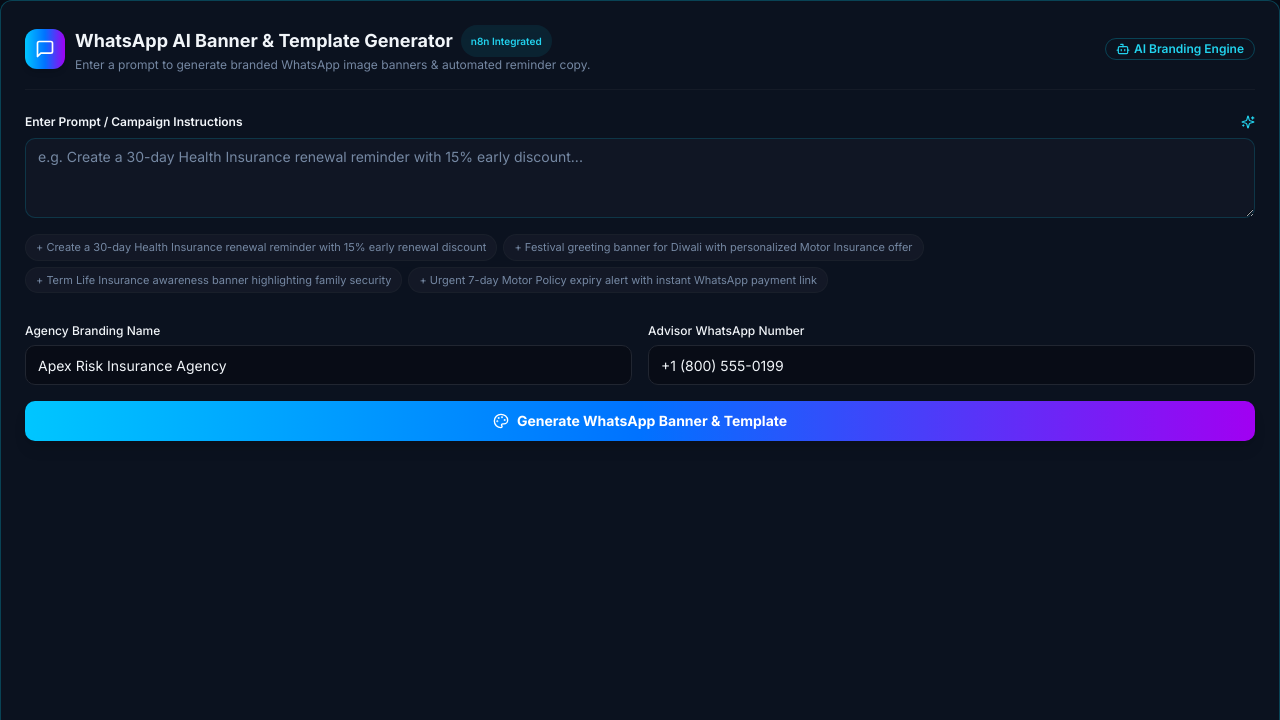
Test: WhatsApp Banner Generator Component Tests › updates prompt input and generates new WhatsApp banner
Replace the text in the text box with placeholder "Create a 30-day Health Insurance renewal reminder" with "Create a Motor Insurance expiry alert" at (640, 178), box [25, 138, 1255, 218]
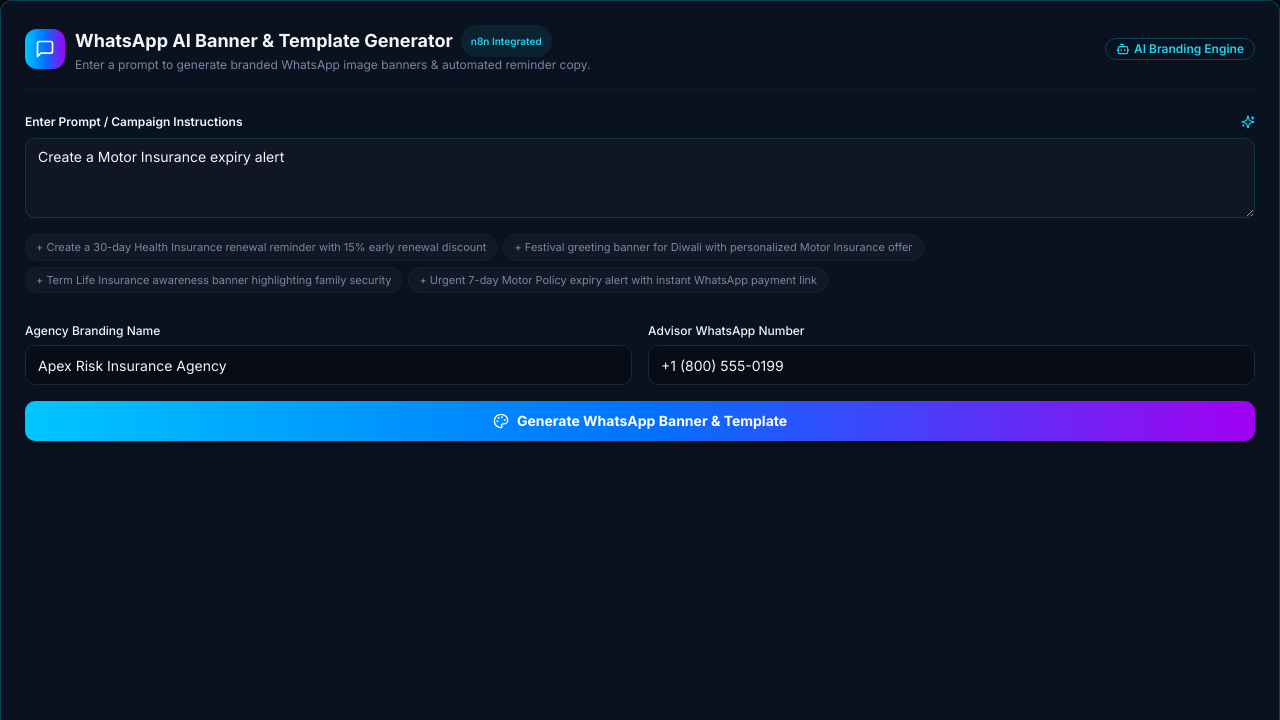
Click the button "Generate WhatsApp Banner & Template" at (640, 421), box [25, 401, 1255, 441]
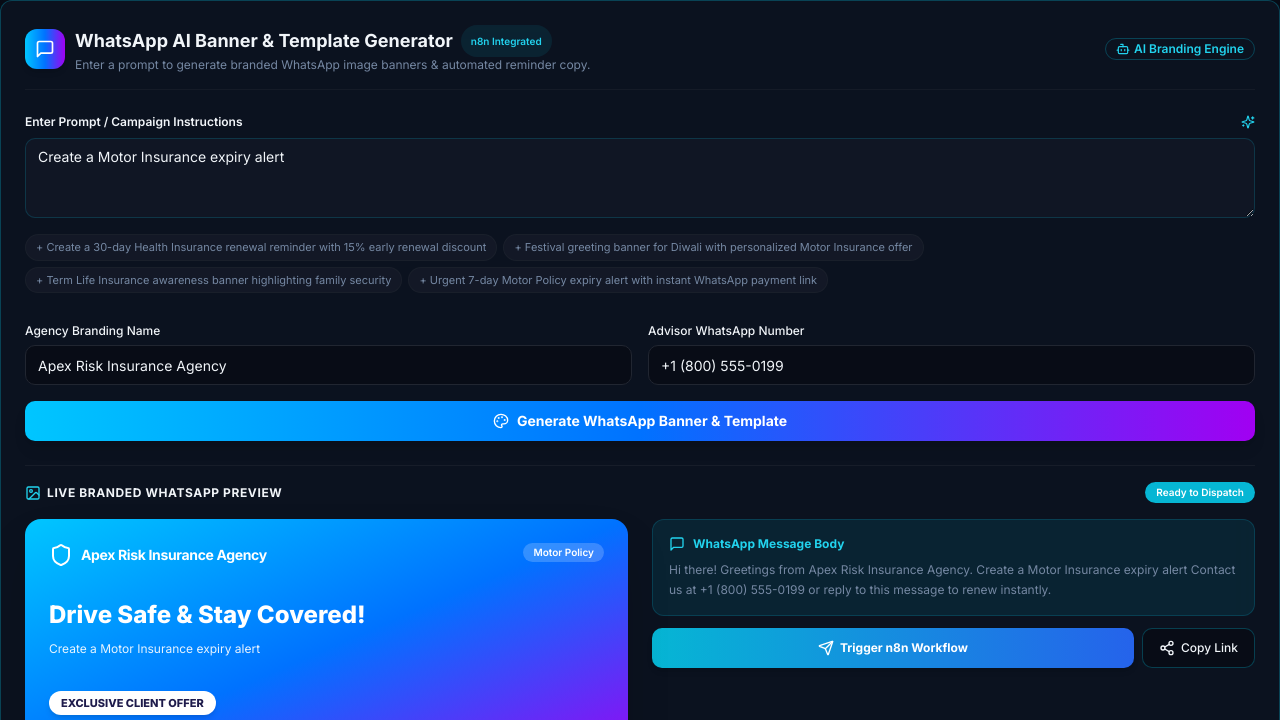
Expected: the heading "Drive Safe & Stay Covered!" is shown, [49, 600, 366, 629]
